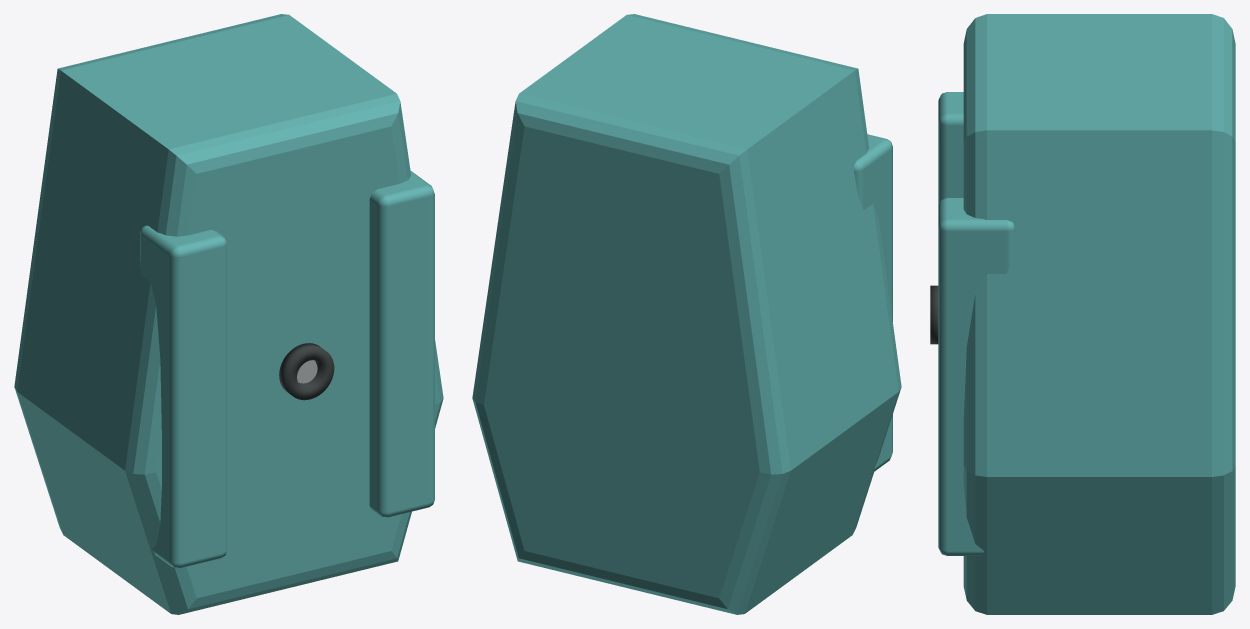
File: indoor-climbing-and-bouldering-gym-indoor-climbing-and-c0e585af__31528.glb
3 renders of one model, left to right at view 1: azimuth 30°, elevation 25°; view 2: azimuth 150°, elevation 25°; view 3: azimuth 270°, elevation 25°, orthographic. The views are drawn at different scales.
Parts seen in each view (by area): view 1: indoor-climbing-and-bouldering-gym-opposing-pinch-hold; view 2: indoor-climbing-and-bouldering-gym-opposing-pinch-hold; view 3: indoor-climbing-and-bouldering-gym-opposing-pinch-hold.
Boxes of the visible parts, <box> form: indoor-climbing-and-bouldering-gym-opposing-pinch-hold: <box>14,14,443,614</box>; indoor-climbing-and-bouldering-gym-opposing-pinch-hold: <box>472,14,901,614</box>; indoor-climbing-and-bouldering-gym-opposing-pinch-hold: <box>930,14,1235,614</box>.
Size of the model in its own units: 0.1946 by 0.274 by 0.156.
